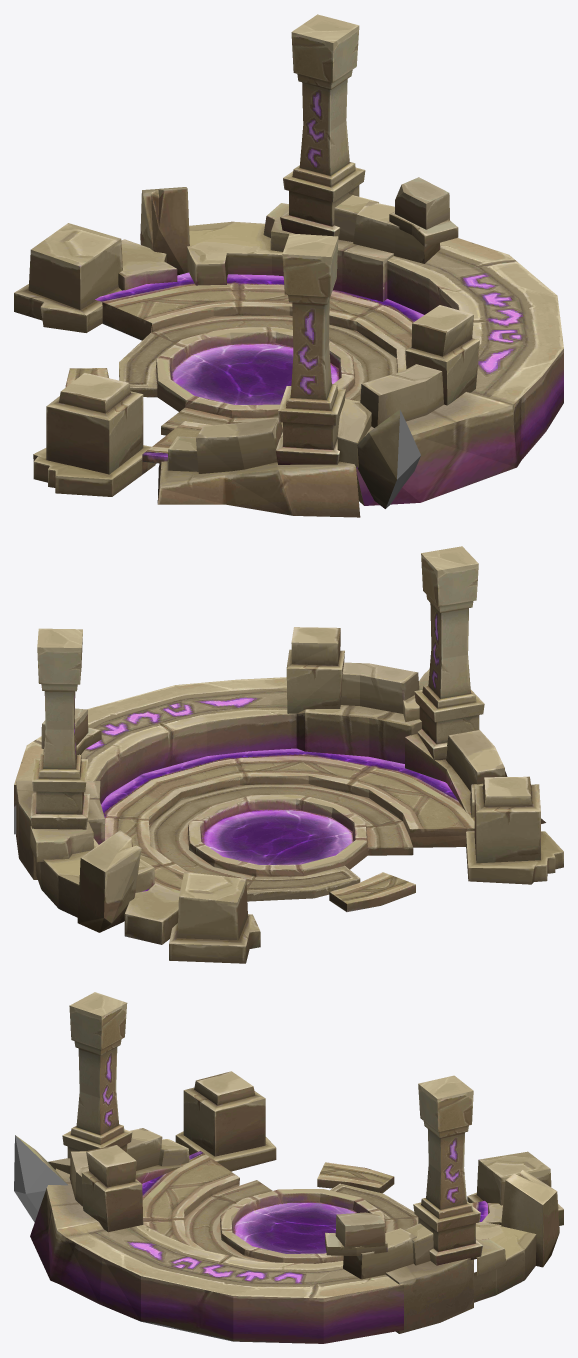
Rendered from caodi_yingxiongjitan.fbx.
The picture shows the model from 3 angles, top to bottom: view 1: azimuth 30°, elevation 25°; view 2: azimuth 150°, elevation 25°; view 3: azimuth 270°, elevation 25°; orthographic projection. The views are drawn at different scales.
Parts seen in each view (by area): view 1: caodi_yingxiongjitan; view 2: caodi_yingxiongjitan; view 3: caodi_yingxiongjitan.
Boxes of the visible parts, x1,y1,x2,y2 form: caodi_yingxiongjitan: (14, 14, 563, 517); caodi_yingxiongjitan: (14, 546, 563, 963); caodi_yingxiongjitan: (14, 992, 563, 1343).
Bounding box in the file's own units: 9.71 × 4.58 × 10.54.
